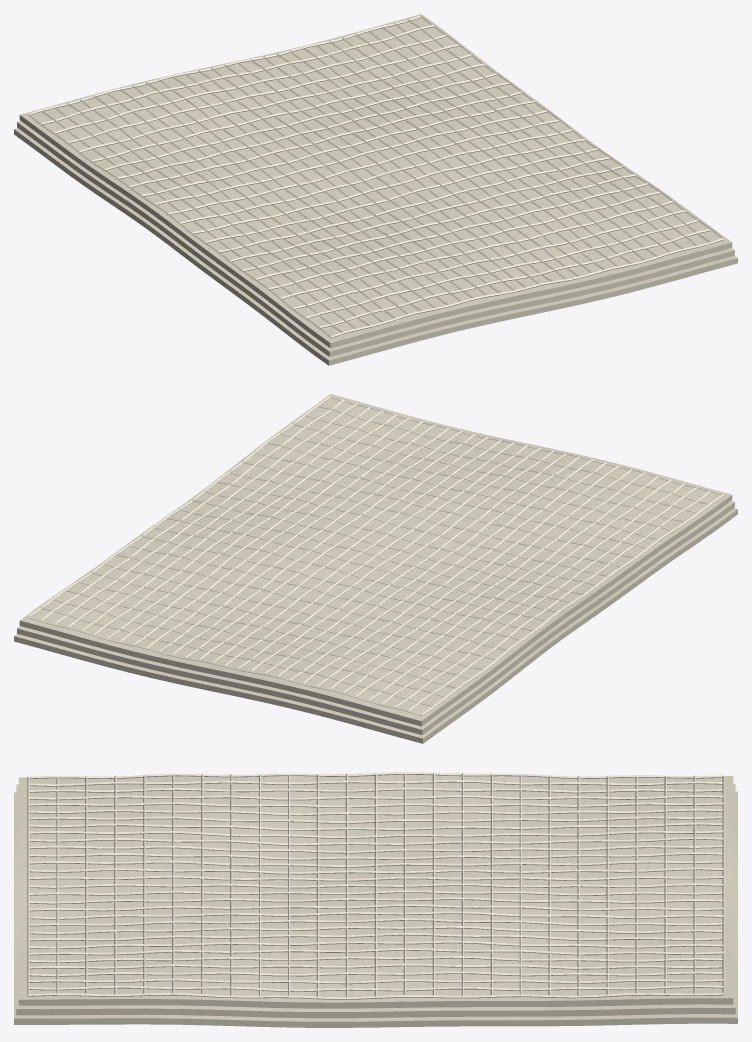
The model's file is asset.fbx.
3 renders of one model, top to bottom at view 1: azimuth 30°, elevation 25°; view 2: azimuth 150°, elevation 25°; view 3: azimuth 270°, elevation 25°, orthographic. The views are drawn at different scales.
Visible parts, largest first — view 1: radcare_sterile_dressing, radcare_sterile_dressing_woven_fibers; view 2: radcare_sterile_dressing, radcare_sterile_dressing_woven_fibers; view 3: radcare_sterile_dressing, radcare_sterile_dressing_woven_fibers.
Boxes of the visible parts, x1,y1,x2,y2 form: radcare_sterile_dressing: (14,14,737,365); radcare_sterile_dressing_woven_fibers: (28,16,723,338); radcare_sterile_dressing: (14,394,737,743); radcare_sterile_dressing_woven_fibers: (28,396,724,715); radcare_sterile_dressing: (14,773,737,1027); radcare_sterile_dressing_woven_fibers: (27,772,724,999).
Bounding box in the file's own units: 0.09 × 0.006 × 0.12.
